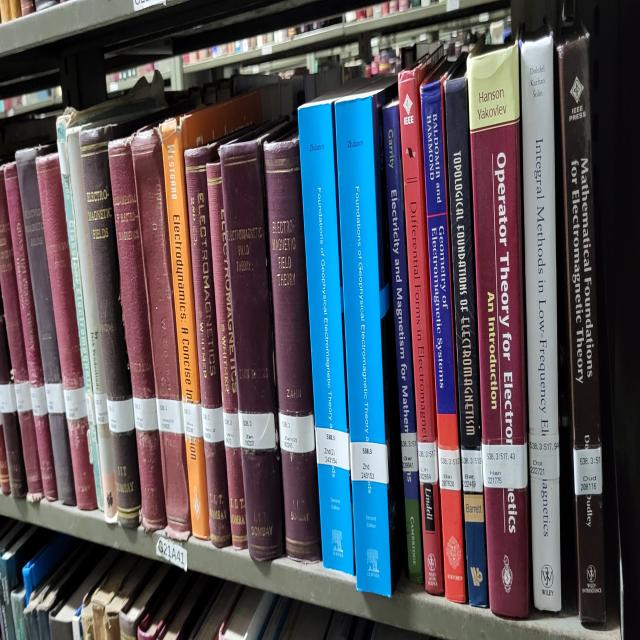Book: (159, 92, 262, 538), (468, 43, 530, 617), (335, 81, 401, 595), (558, 32, 605, 625), (220, 133, 284, 560), (56, 100, 121, 519), (299, 97, 355, 574), (58, 100, 118, 522), (399, 46, 445, 595), (131, 127, 191, 538), (264, 133, 321, 563), (80, 122, 140, 528), (520, 32, 561, 611), (445, 68, 489, 606), (109, 135, 166, 530), (15, 146, 76, 506), (36, 154, 96, 511), (382, 100, 424, 582), (184, 141, 231, 547), (4, 162, 58, 501), (206, 162, 248, 549), (0, 168, 42, 501), (420, 73, 456, 414)
Label: (482, 444, 528, 490), (350, 441, 389, 484), (279, 411, 315, 455), (315, 427, 350, 471), (239, 411, 276, 449), (529, 433, 559, 479), (574, 446, 602, 495), (156, 398, 184, 436), (106, 398, 135, 433), (461, 449, 484, 492), (438, 449, 461, 490), (418, 441, 439, 484), (201, 406, 224, 444), (132, 398, 158, 430), (64, 387, 88, 419), (182, 400, 202, 438), (401, 433, 419, 471), (222, 411, 240, 449), (45, 381, 65, 414), (30, 384, 48, 417), (15, 381, 32, 414), (94, 392, 109, 425), (85, 392, 95, 425)
